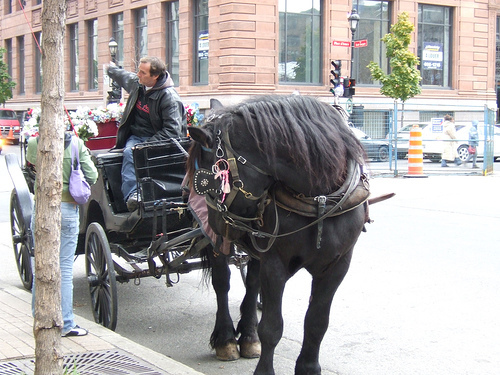horse: (182, 94, 372, 375)
